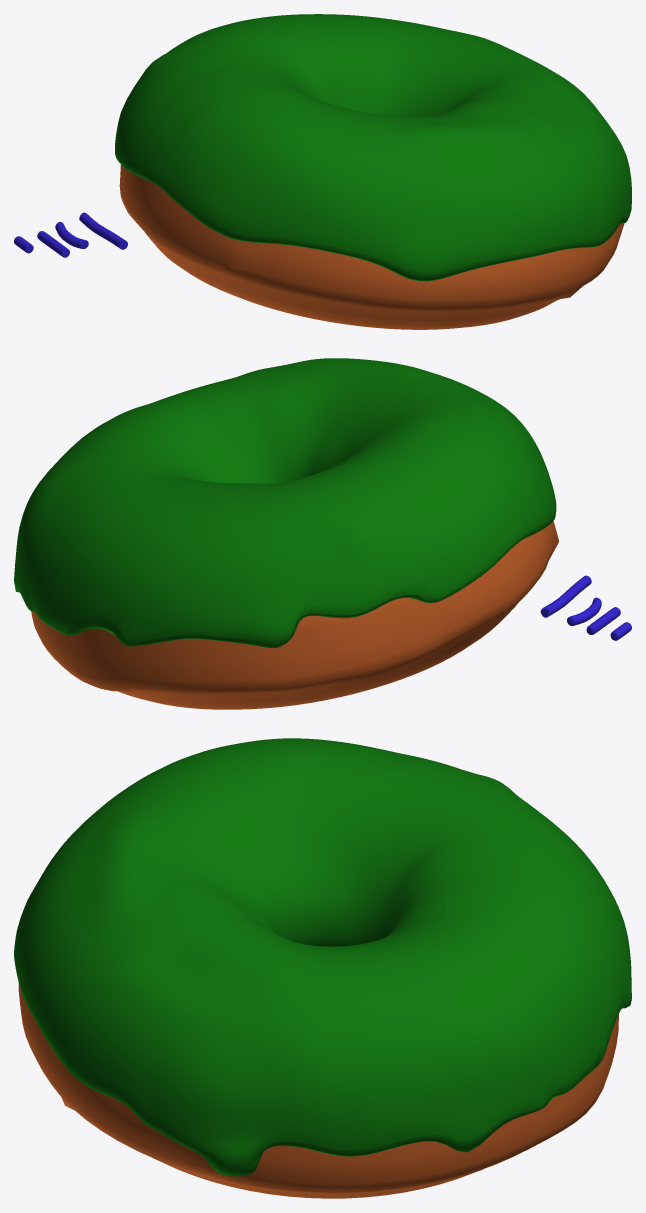
Rendered from donut 2.obj.
3 views of the same model, one above another, from view 1: azimuth 30°, elevation 25°; view 2: azimuth 150°, elevation 25°; view 3: azimuth 270°, elevation 25° (orthographic). The views are drawn at different scales.
Parts seen in each view (by area): view 1: Icing_Torus.003, Donut_Torus, Sprinkle_1.001_Cylinder.002; view 2: Icing_Torus.003, Donut_Torus, Sprinkle_1.001_Cylinder.002; view 3: Icing_Torus.003, Donut_Torus.
Boxes of the visible parts, <box> form: Icing_Torus.003: <box>115,14,631,281</box>; Donut_Torus: <box>119,164,624,329</box>; Sprinkle_1.001_Cylinder.002: <box>79,212,127,249</box>; Icing_Torus.003: <box>14,358,556,648</box>; Donut_Torus: <box>31,521,558,709</box>; Sprinkle_1.001_Cylinder.002: <box>540,575,591,617</box>; Icing_Torus.003: <box>14,738,631,1176</box>; Donut_Torus: <box>18,983,618,1198</box>.
Size of the model in its own units: 0.1307 by 0.0543 by 0.1052.
